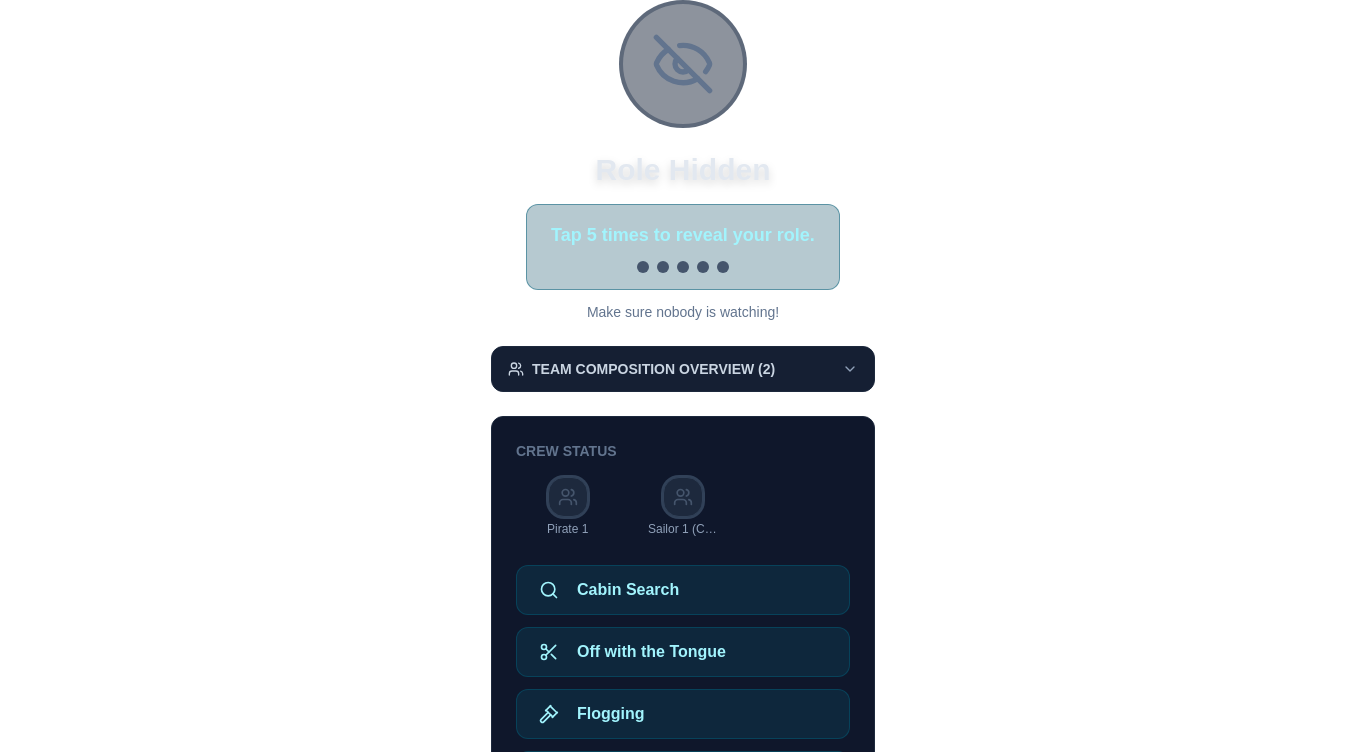
GameView › does not show converted sailor in Pirate Crew list
Click the button "Tap 5 times to reveal your role.".
click(683, 247)  # box x1=526 y1=204 x2=840 y2=290
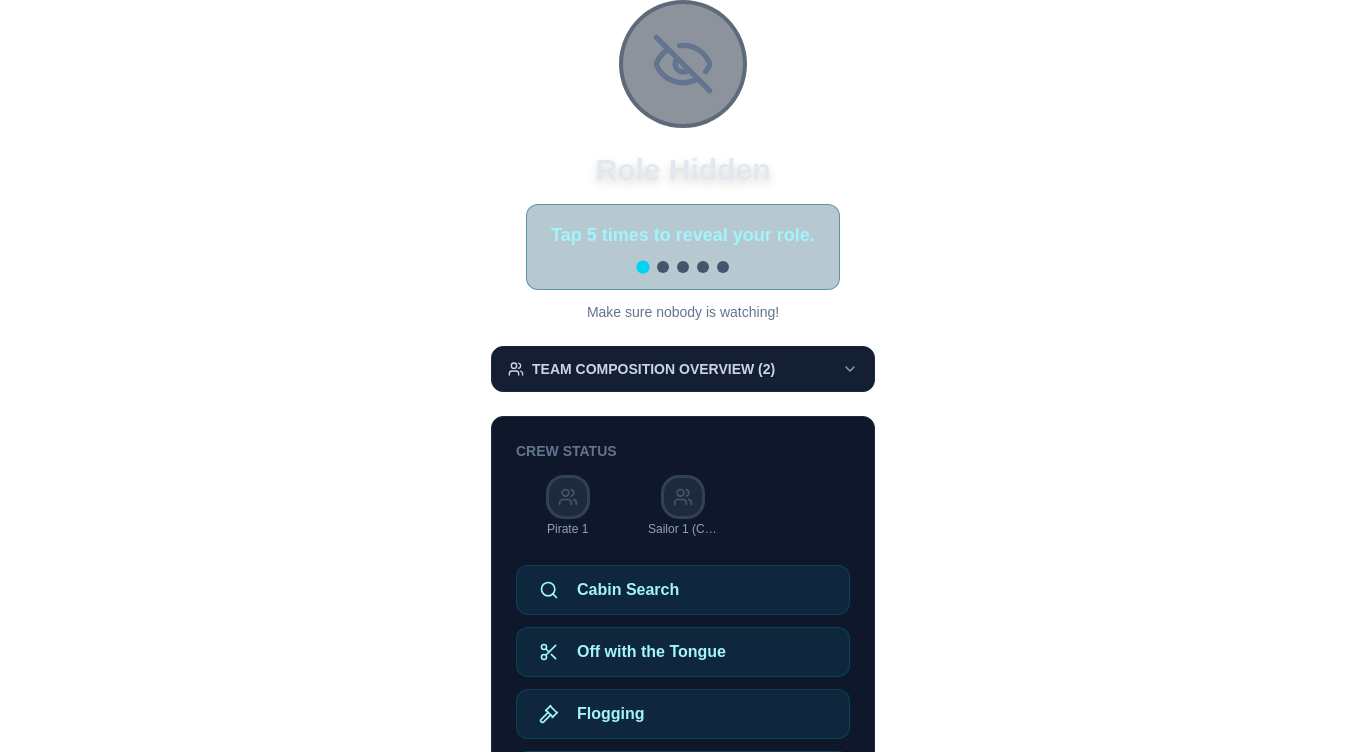
Click the button "Tap 5 times to reveal your role.".
click(683, 247)  # box x1=526 y1=204 x2=840 y2=290
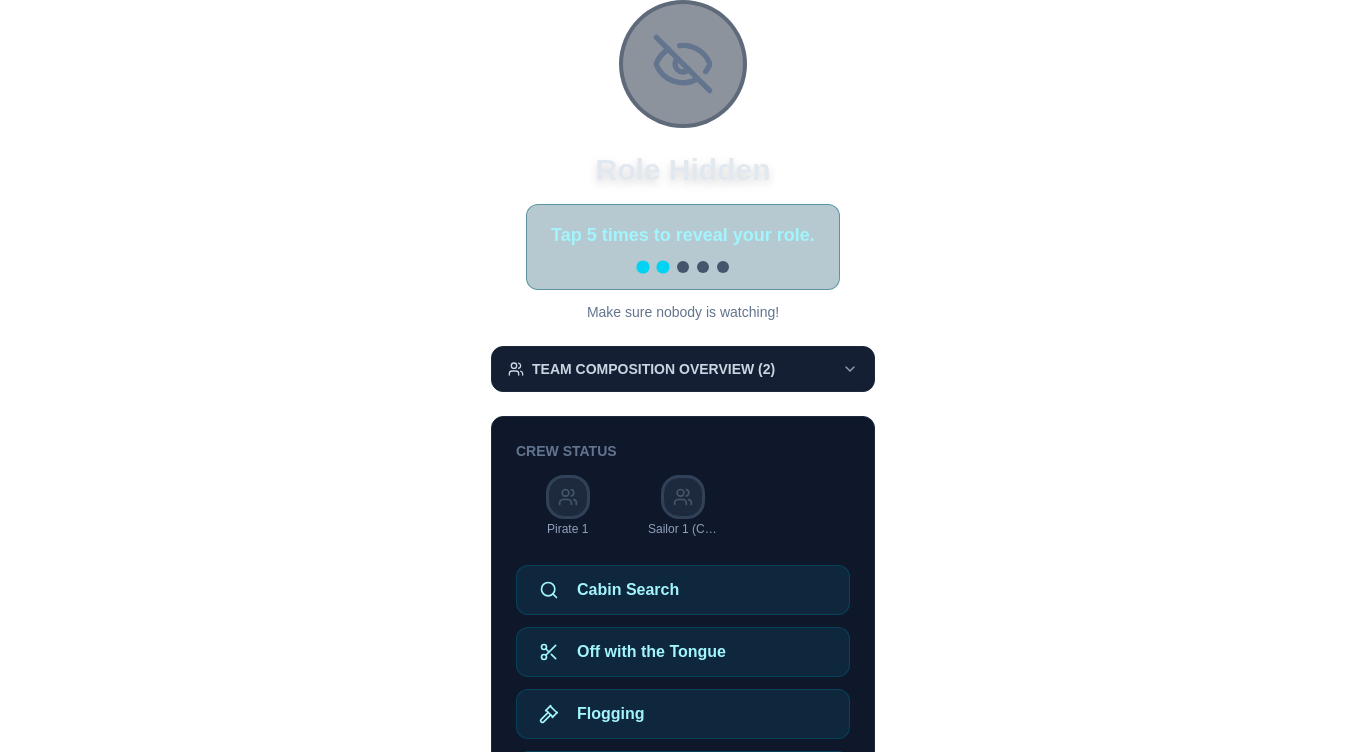
Click the button "Tap 5 times to reveal your role.".
click(683, 247)  # box x1=526 y1=204 x2=840 y2=290
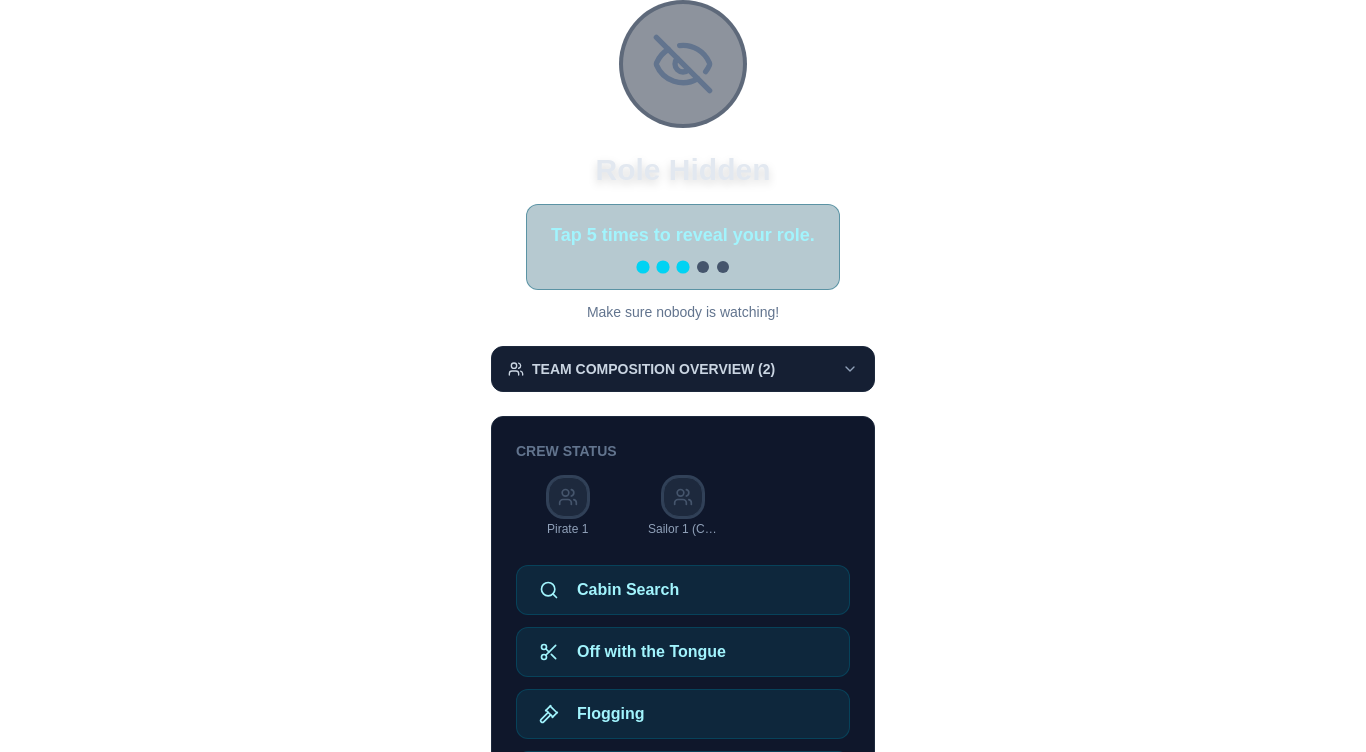
Click the button "Tap 5 times to reveal your role.".
click(683, 247)  # box x1=526 y1=204 x2=840 y2=290
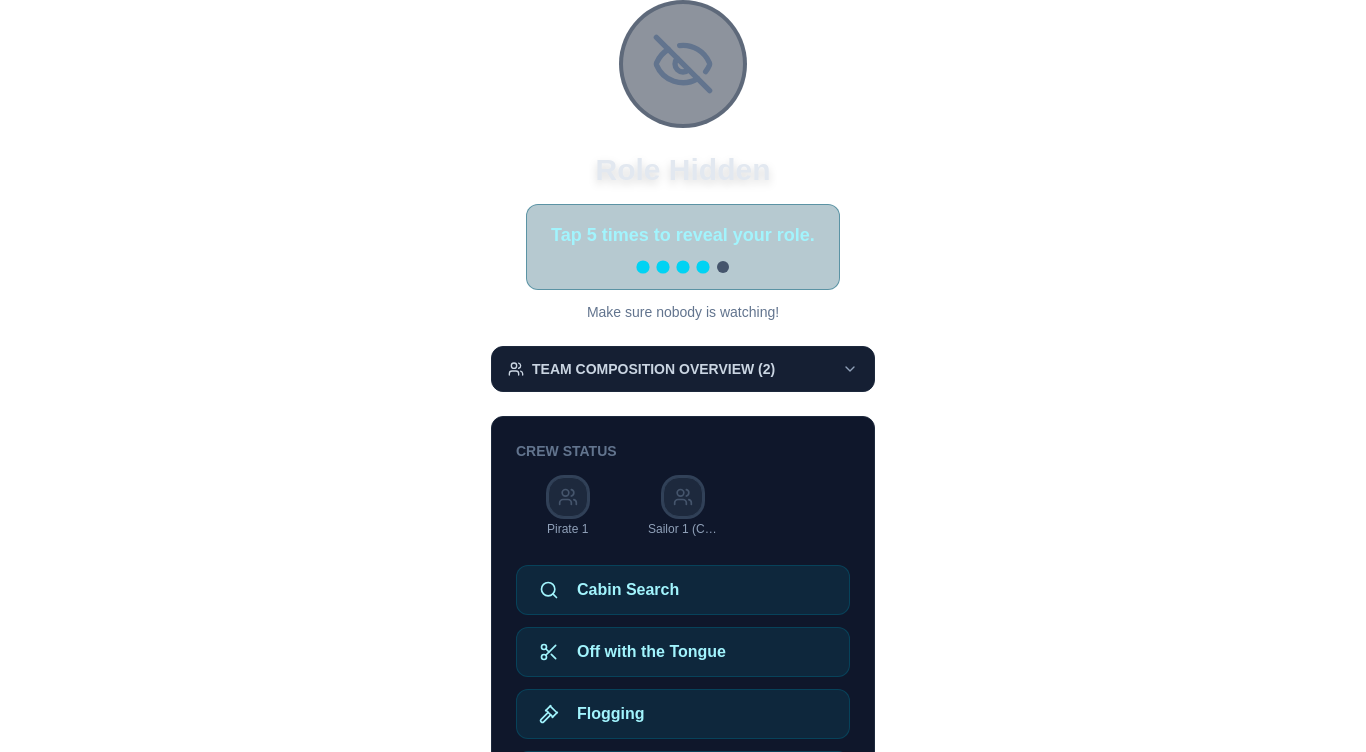
Click the button "Tap 5 times to reveal your role.".
click(683, 247)  # box x1=526 y1=204 x2=840 y2=290
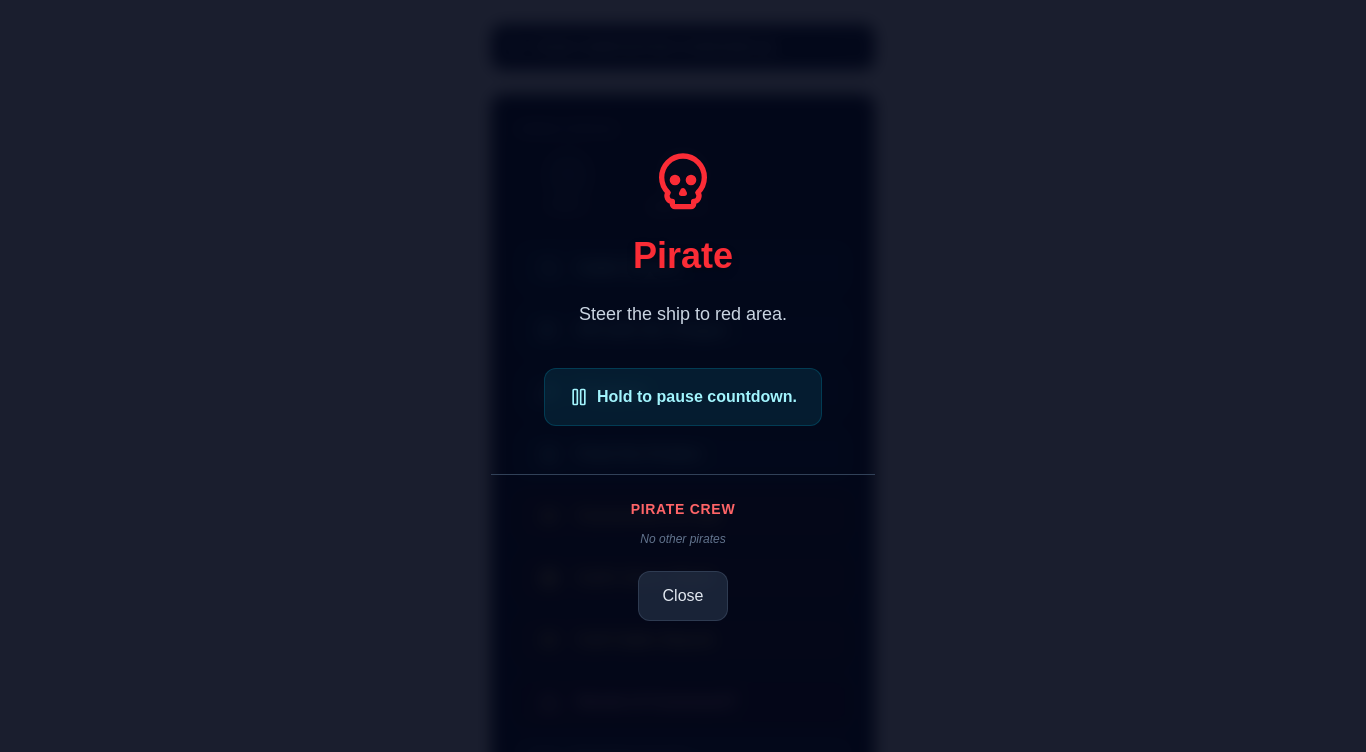
Expected: the heading "Pirate Crew" is shown, x1=631 y1=500 x2=735 y2=516
Expected: the text "No other pirates" is shown, x1=640 y1=530 x2=726 y2=546
